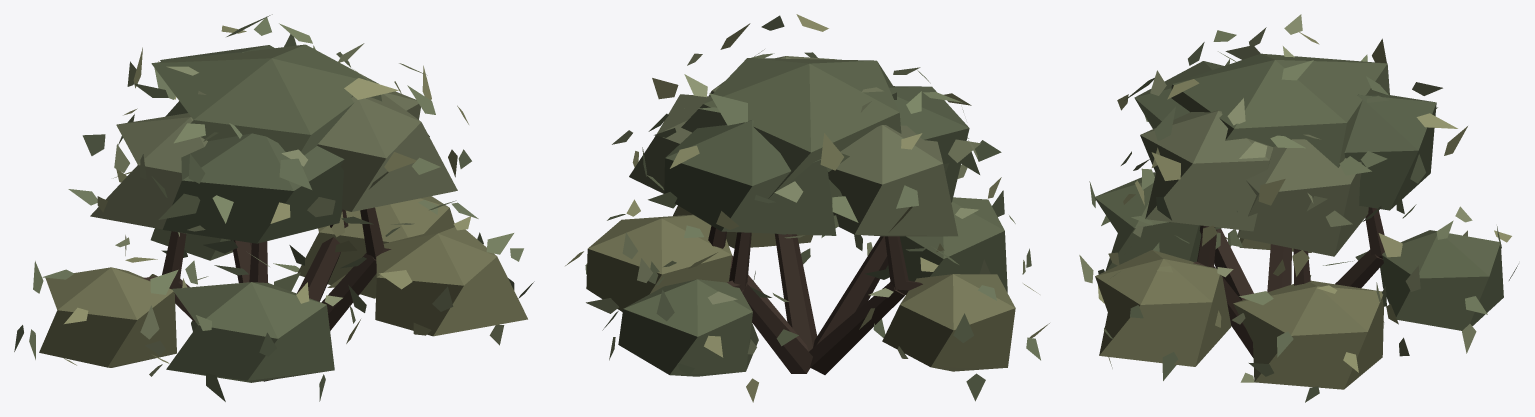
The model's file is mesquite-high.glb.
3 renders of one model, left to right at view 1: azimuth 30°, elevation 25°; view 2: azimuth 150°, elevation 25°; view 3: azimuth 270°, elevation 25°, orthographic. The views are drawn at different scales.
Visible parts, largest first — view 1: mesquite-high / foliage-core, mesquite-high / foliage, mesquite-high / wood; view 2: mesquite-high / foliage-core, mesquite-high / foliage, mesquite-high / wood; view 3: mesquite-high / foliage-core, mesquite-high / foliage, mesquite-high / wood.
Boxes of the visible parts, x1=… form: mesquite-high / foliage-core: x1=39, y1=44, x2=527, y2=382; mesquite-high / foliage: x1=14, y1=14, x2=534, y2=401; mesquite-high / wood: x1=143, y1=207, x2=391, y2=381; mesquite-high / foliage-core: x1=586, y1=56, x2=1015, y2=376; mesquite-high / foliage: x1=565, y1=14, x2=1049, y2=402; mesquite-high / wood: x1=708, y1=225, x2=922, y2=374; mesquite-high / foliage-core: x1=1094, y1=53, x2=1503, y2=389; mesquite-high / foliage: x1=1079, y1=14, x2=1518, y2=402; mesquite-high / wood: x1=1193, y1=207, x2=1384, y2=357.
Size of the model in its own units: 5.45 by 3.73 by 4.8.
